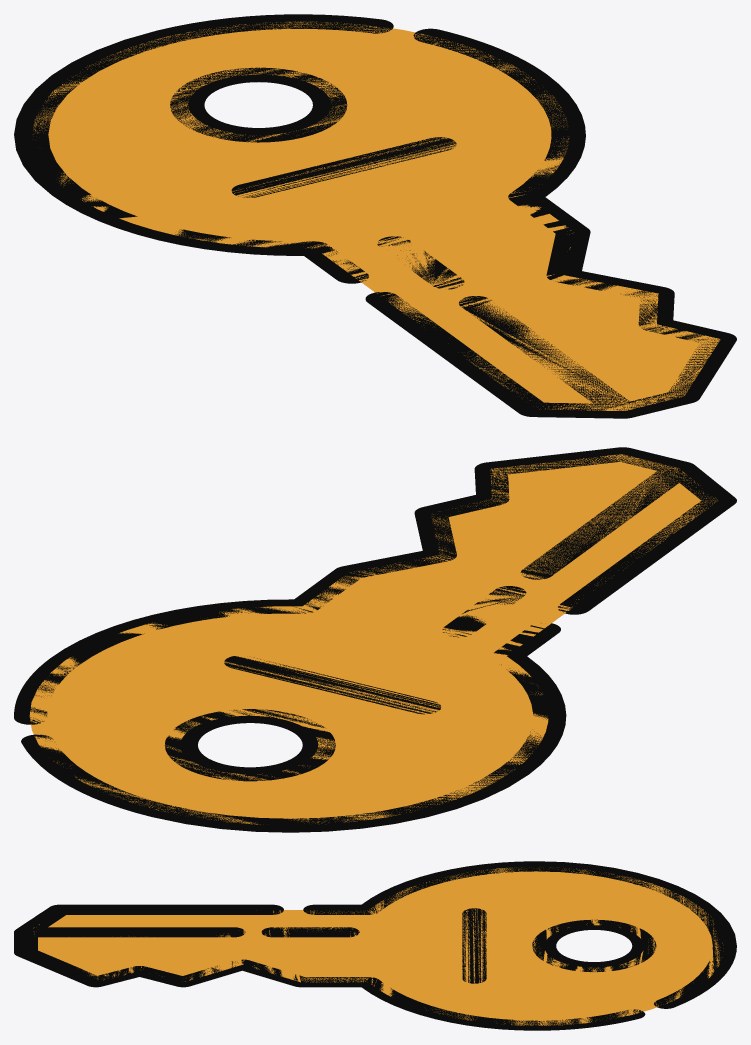
The model's file is key.obj.
The picture shows the model from 3 angles, top to bottom: view 1: azimuth 30°, elevation 25°; view 2: azimuth 150°, elevation 25°; view 3: azimuth 270°, elevation 25°; orthographic projection. The views are drawn at different scales.
Size of the model in its own units: 0.0801 by 0 by 0.1445.
